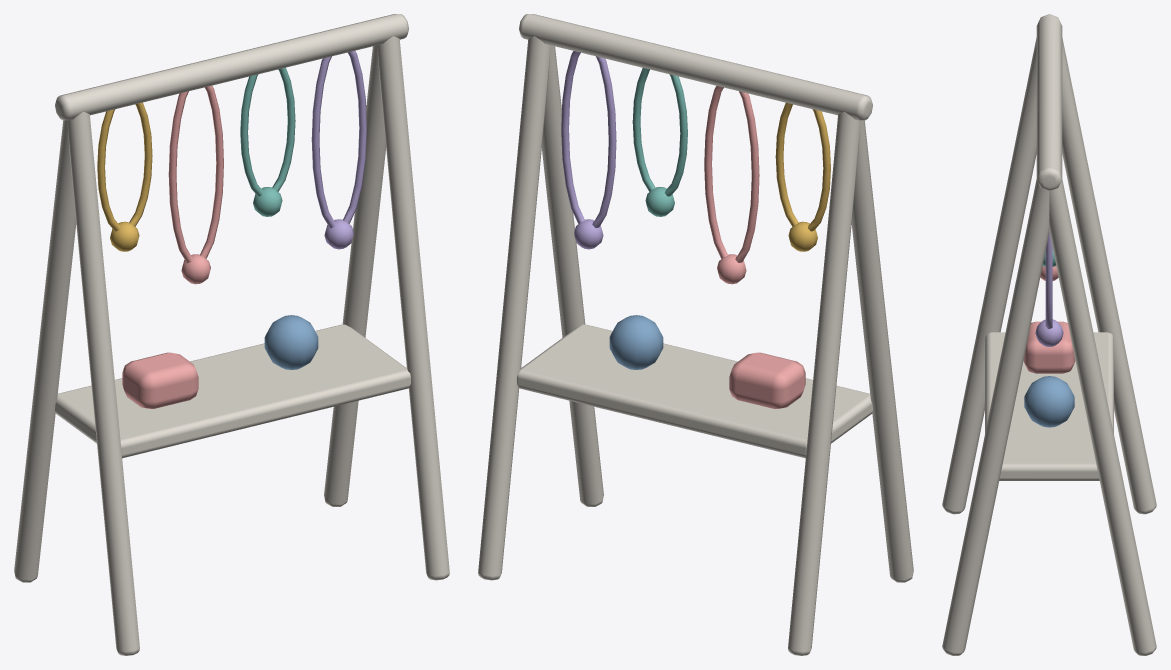
The model's file is accessory_rack.glb.
The picture shows the model from 3 angles, left to right: view 1: azimuth 30°, elevation 25°; view 2: azimuth 150°, elevation 25°; view 3: azimuth 270°, elevation 25°; orthographic projection. The views are drawn at different scales.
Visible parts, largest first — view 1: accessory_rack_mesh; view 2: accessory_rack_mesh; view 3: accessory_rack_mesh.
Boxes of the visible parts, <box> form: accessory_rack_mesh: <box>14,14,449,655</box>; accessory_rack_mesh: <box>478,14,913,655</box>; accessory_rack_mesh: <box>942,14,1156,655</box>.
Size of the model in its own units: 0.58 by 0.8416 by 0.3322.
